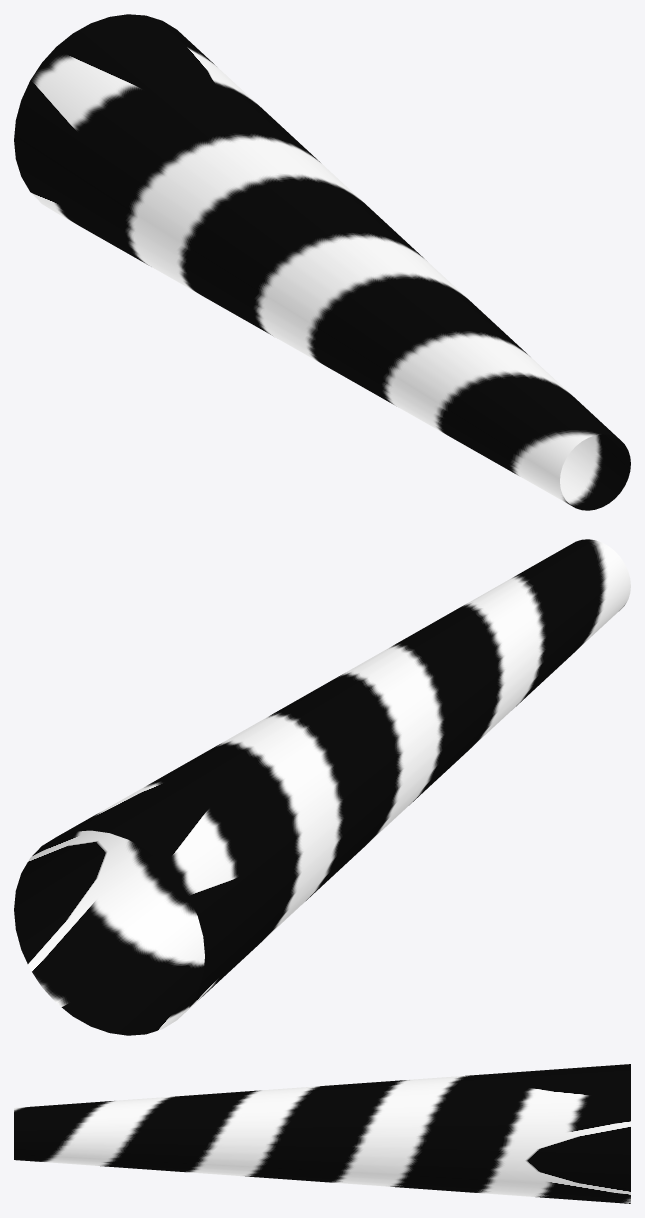
The model's file is flat_light_beam.glb.
3 views of the same model, one above another, from view 1: azimuth 30°, elevation 25°; view 2: azimuth 150°, elevation 25°; view 3: azimuth 270°, elevation 25° (orthographic). The views are drawn at different scales.
Visible parts, largest first — view 1: Cylinder.008; view 2: Cylinder.008; view 3: Cylinder.008.
Part boxes in pixels (x1=…): Cylinder.008: x1=14, y1=14, x2=630, y2=510; Cylinder.008: x1=14, y1=539, x2=630, y2=1035; Cylinder.008: x1=14, y1=1064, x2=630, y2=1203.
Bounding box in the file's own units: 9.08 × 9.08 × 39.99.
1 material, 1 textured.
